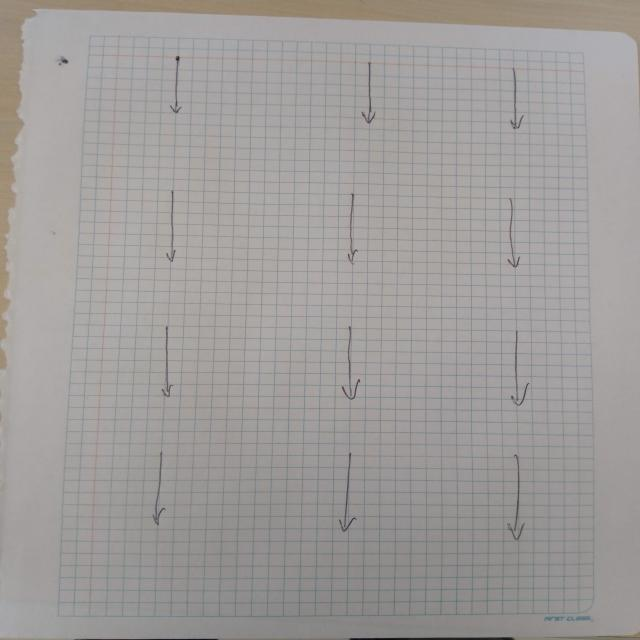arrow_line_down: (334, 322, 375, 407), (500, 332, 540, 412), (148, 322, 188, 400), (495, 196, 530, 276), (337, 448, 368, 533), (504, 452, 532, 545), (159, 51, 195, 122), (353, 61, 388, 131), (337, 192, 368, 264), (143, 446, 170, 525), (502, 68, 531, 138), (159, 190, 184, 260)
